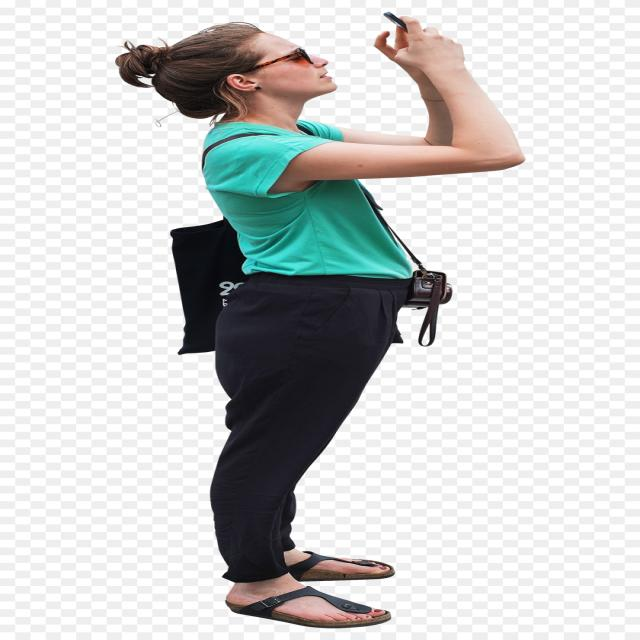standing: (110, 7, 528, 630)
